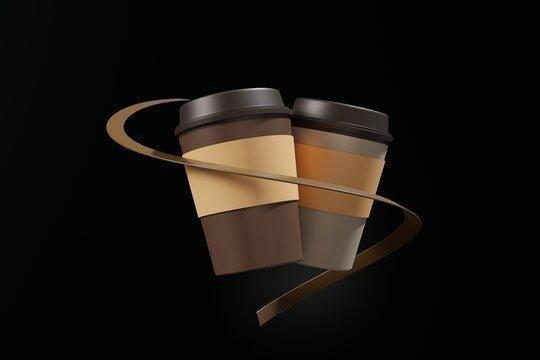cup-disposable: (171, 83, 304, 280), (290, 94, 395, 273)
